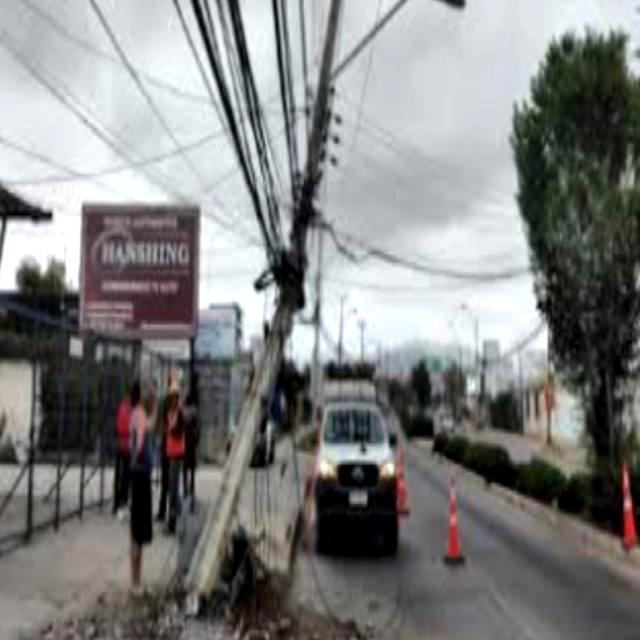Broken Pole: (180, 0, 406, 602)
